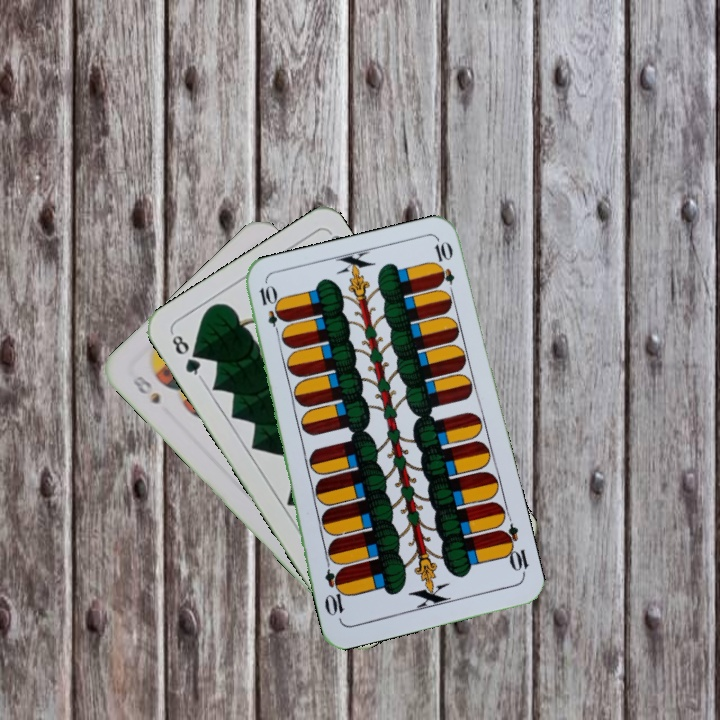E10: (496, 520, 531, 579), (255, 281, 285, 340)
G8: (167, 329, 205, 381)
S8: (128, 372, 163, 407)
